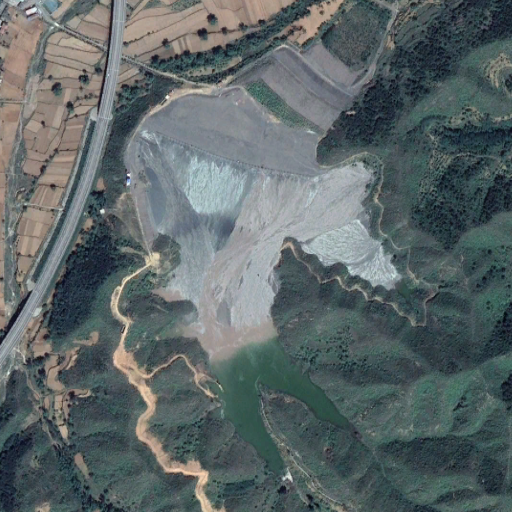tp: (132, 47, 401, 471)
